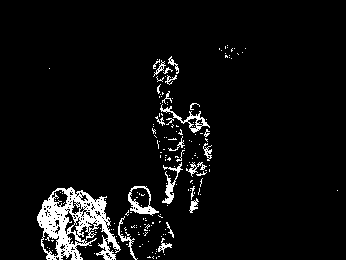person: (117, 185, 178, 260), (180, 102, 212, 215), (150, 96, 181, 205)
